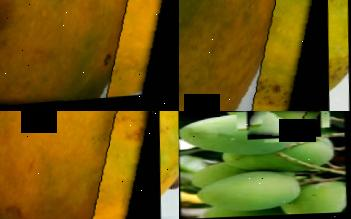PartiallyRipe: (0, 0, 179, 111), (179, 0, 325, 111)
Ripe: (0, 111, 157, 219)
Unripe: (249, 111, 321, 138)
